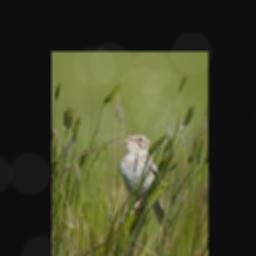Sparrow: (117, 133, 168, 223)
